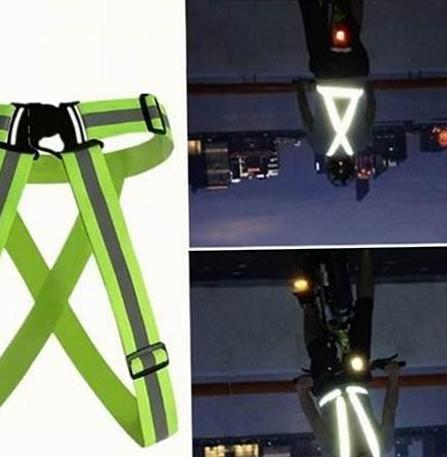Vest: (307, 77, 371, 158), (316, 384, 387, 457)
